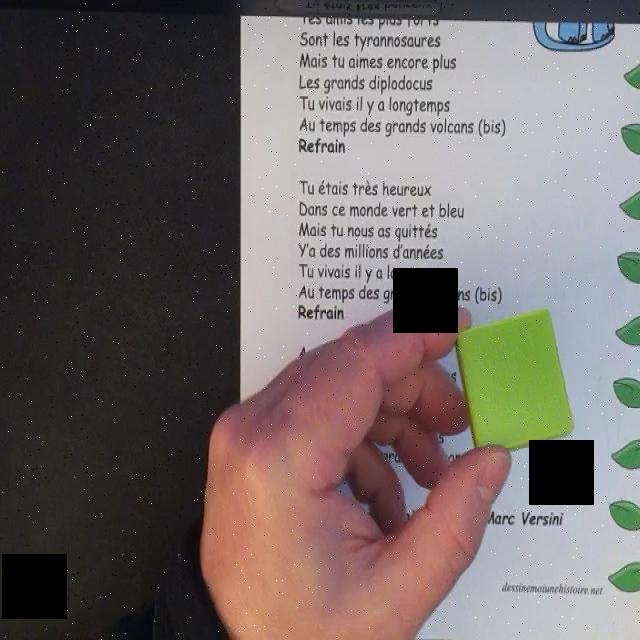square: (455, 307, 575, 460)
